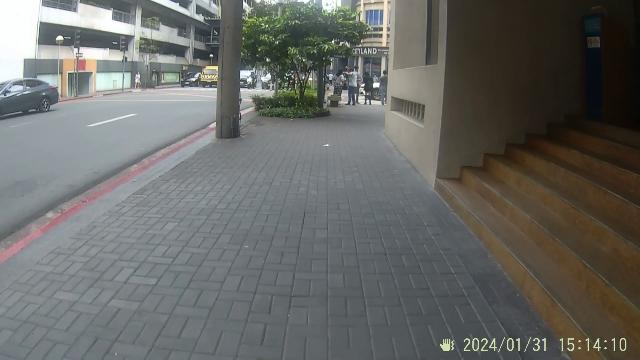tree: (264, 14, 318, 112)
utility_post: (208, 0, 245, 148)
